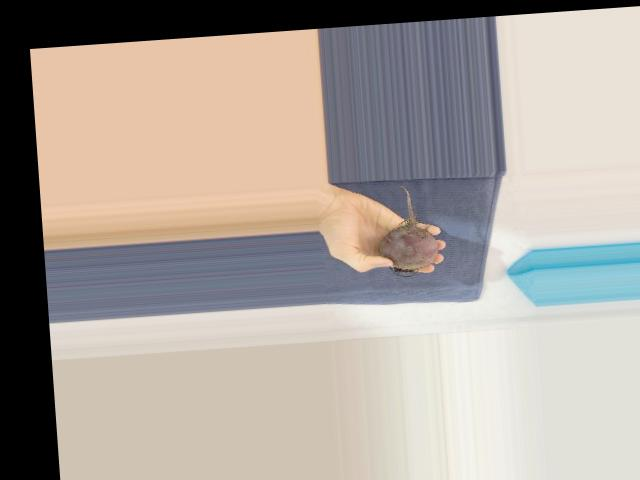beet: (375, 183, 440, 278)
